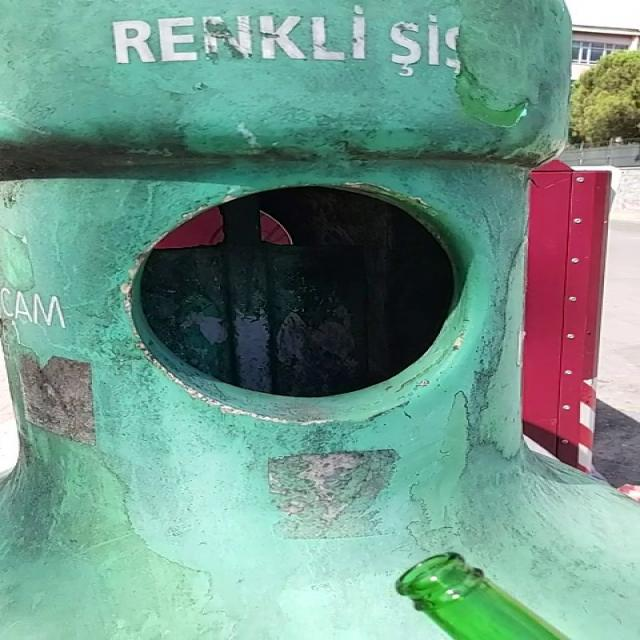glass: (396, 554, 569, 640)
